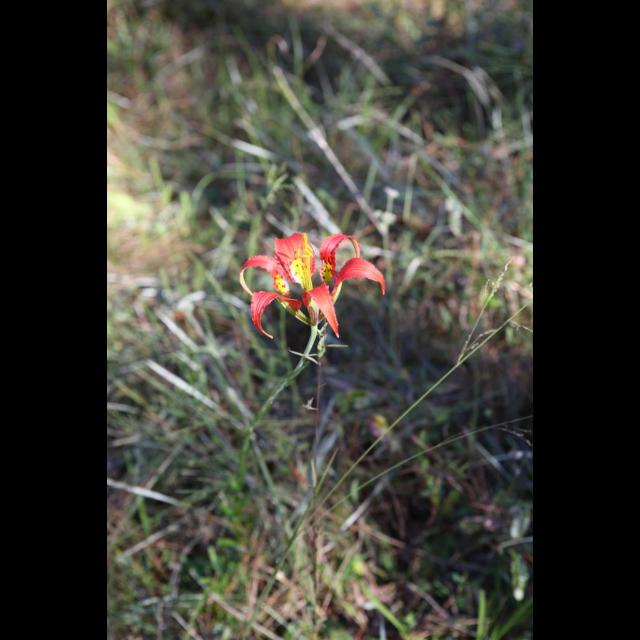Flower: (235, 215, 389, 353)
